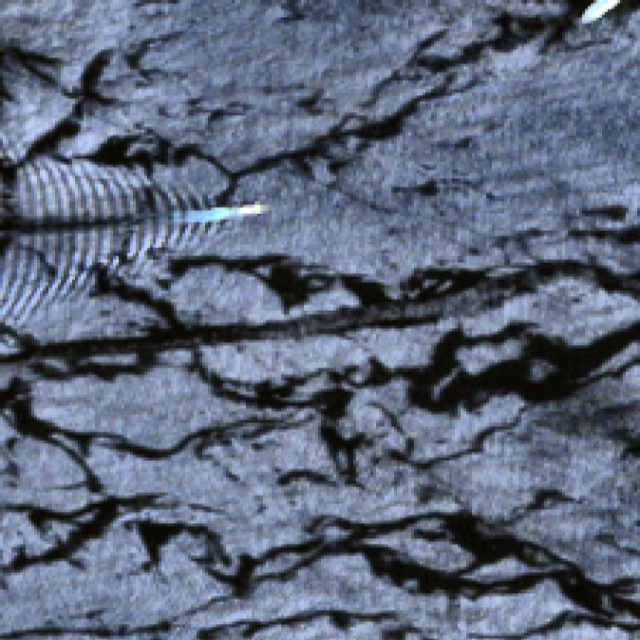wake: (48, 142, 279, 296)
